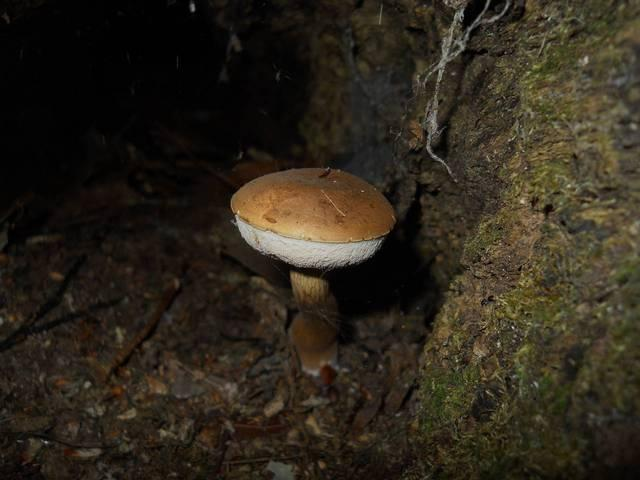Non-edible Mushroom: (228, 164, 397, 380)
